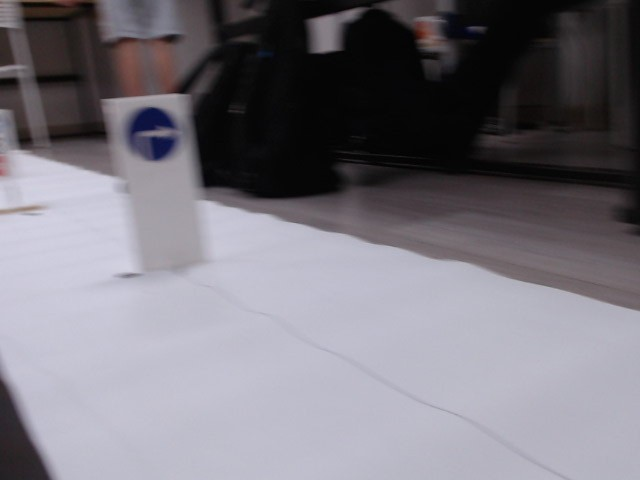Right: (126, 107, 181, 161)
